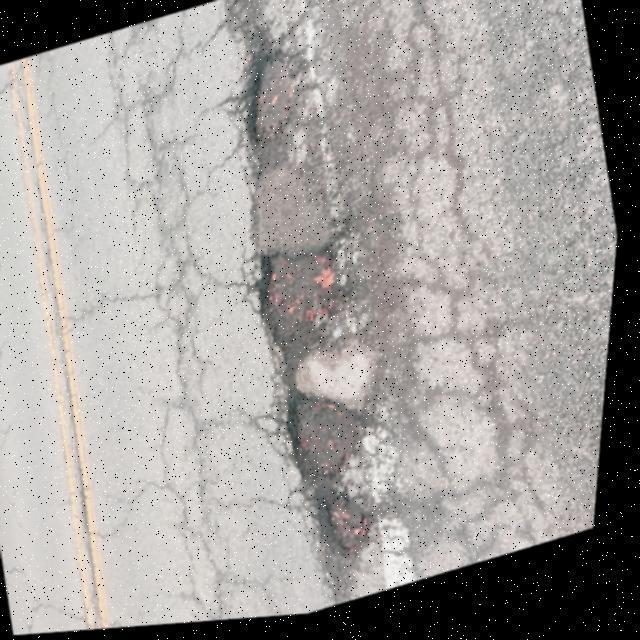pothole: (241, 215, 379, 381), (271, 377, 391, 499), (224, 35, 328, 167), (310, 486, 394, 570)
